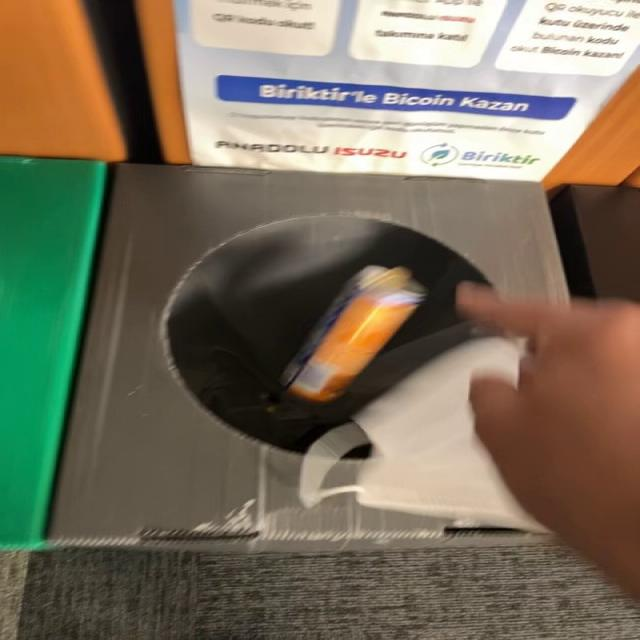bin: (48, 166, 567, 550)
metal: (280, 266, 427, 403)
